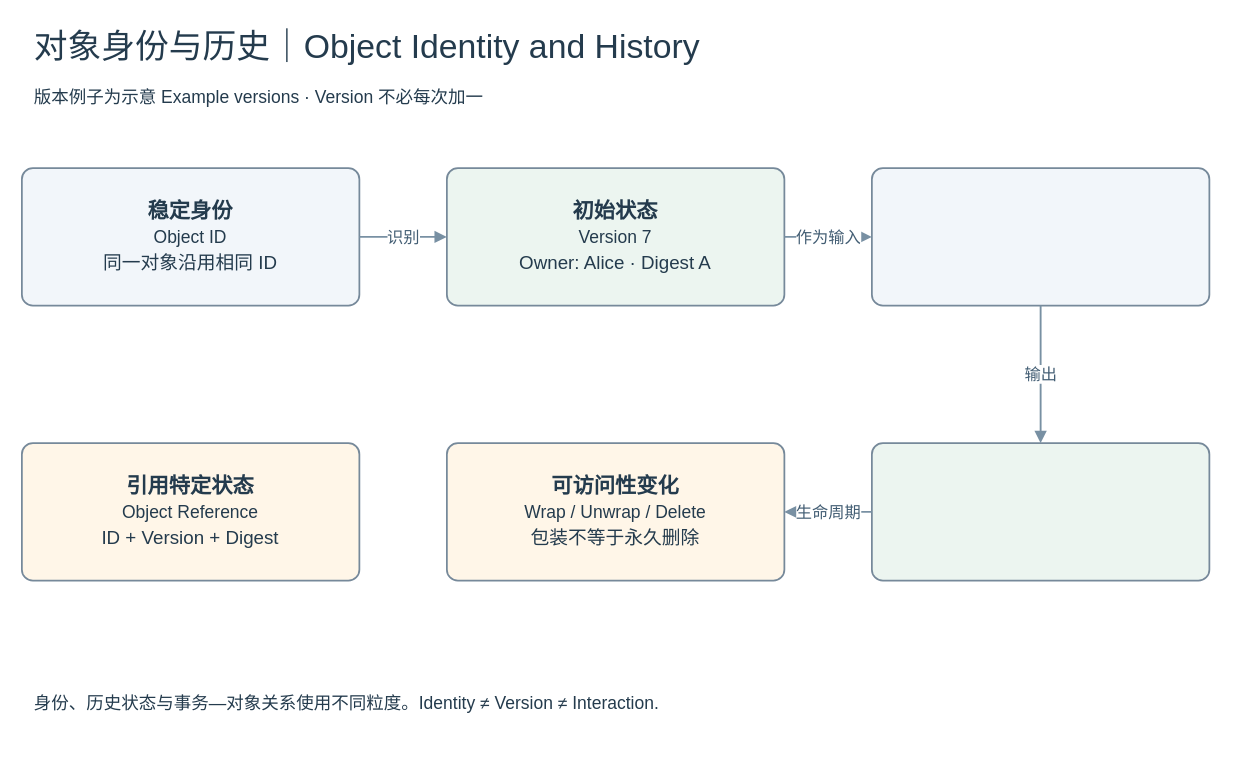
The diagram is 1233 pixels wide and 758 high, and some of its shapes have lost their labels. Here are the shapes that lost their labels. From the top down, the box of each, then its label:
(870, 167, 1210, 306): 状态转换 Transaction 更高输入版本可导致版本跳跃
(870, 442, 1210, 581): 后续状态 Version 21 Owner: Bob · Digest B
